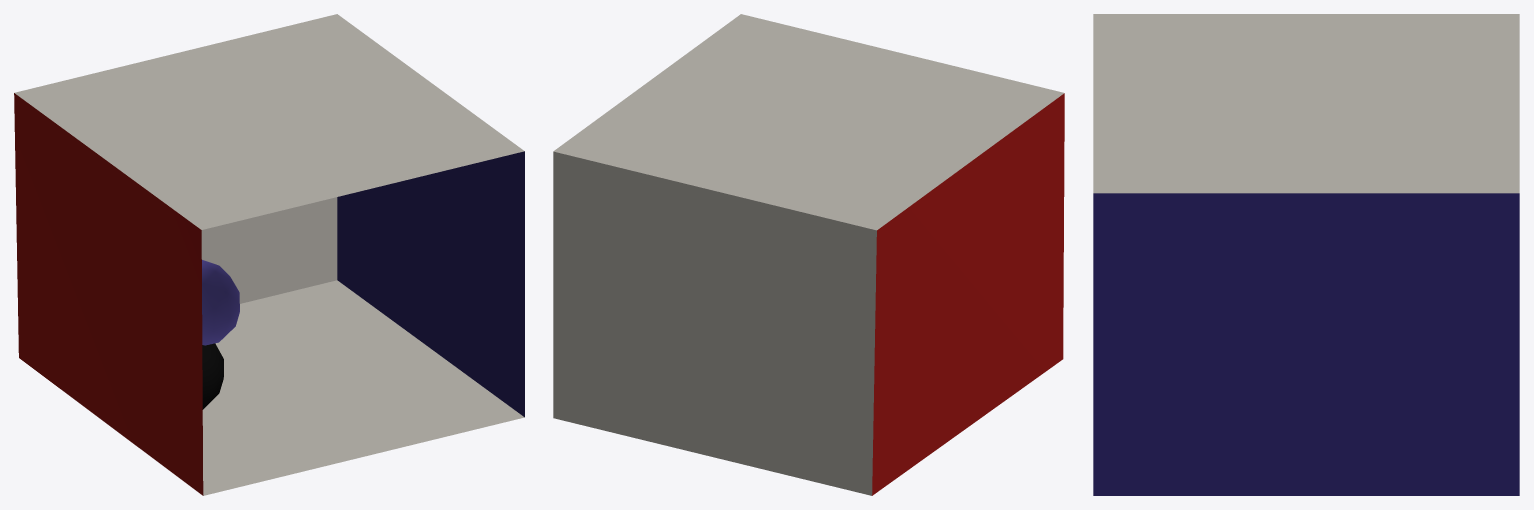
Rendered from CornellBox-Sphere-181.obj.
The picture shows the model from 3 angles, left to right: view 1: azimuth 30°, elevation 25°; view 2: azimuth 150°, elevation 25°; view 3: azimuth 270°, elevation 25°; orthographic projection. The views are drawn at different scales.
Parts seen in each view (by area): view 1: ceiling, leftWall, floor, rightWall, backWall, leftSphere, rightSphere; view 2: backWall, ceiling, leftWall; view 3: rightWall, ceiling.
Boxes of the visible parts, box(x1,y1,x2,y2) form: ceiling: box(14, 14, 524, 229); leftWall: box(14, 93, 203, 495); floor: box(202, 280, 524, 495); rightWall: box(337, 151, 524, 417); backWall: box(201, 197, 337, 303); leftSphere: box(202, 260, 239, 345); rightSphere: box(202, 343, 223, 409); backWall: box(553, 151, 876, 495); ceiling: box(553, 14, 1064, 230); leftWall: box(872, 93, 1064, 495); rightWall: box(1093, 193, 1519, 495); ceiling: box(1093, 14, 1519, 193).
Bounding box in the file's own units: 2.02 × 1.59 × 2.03.
